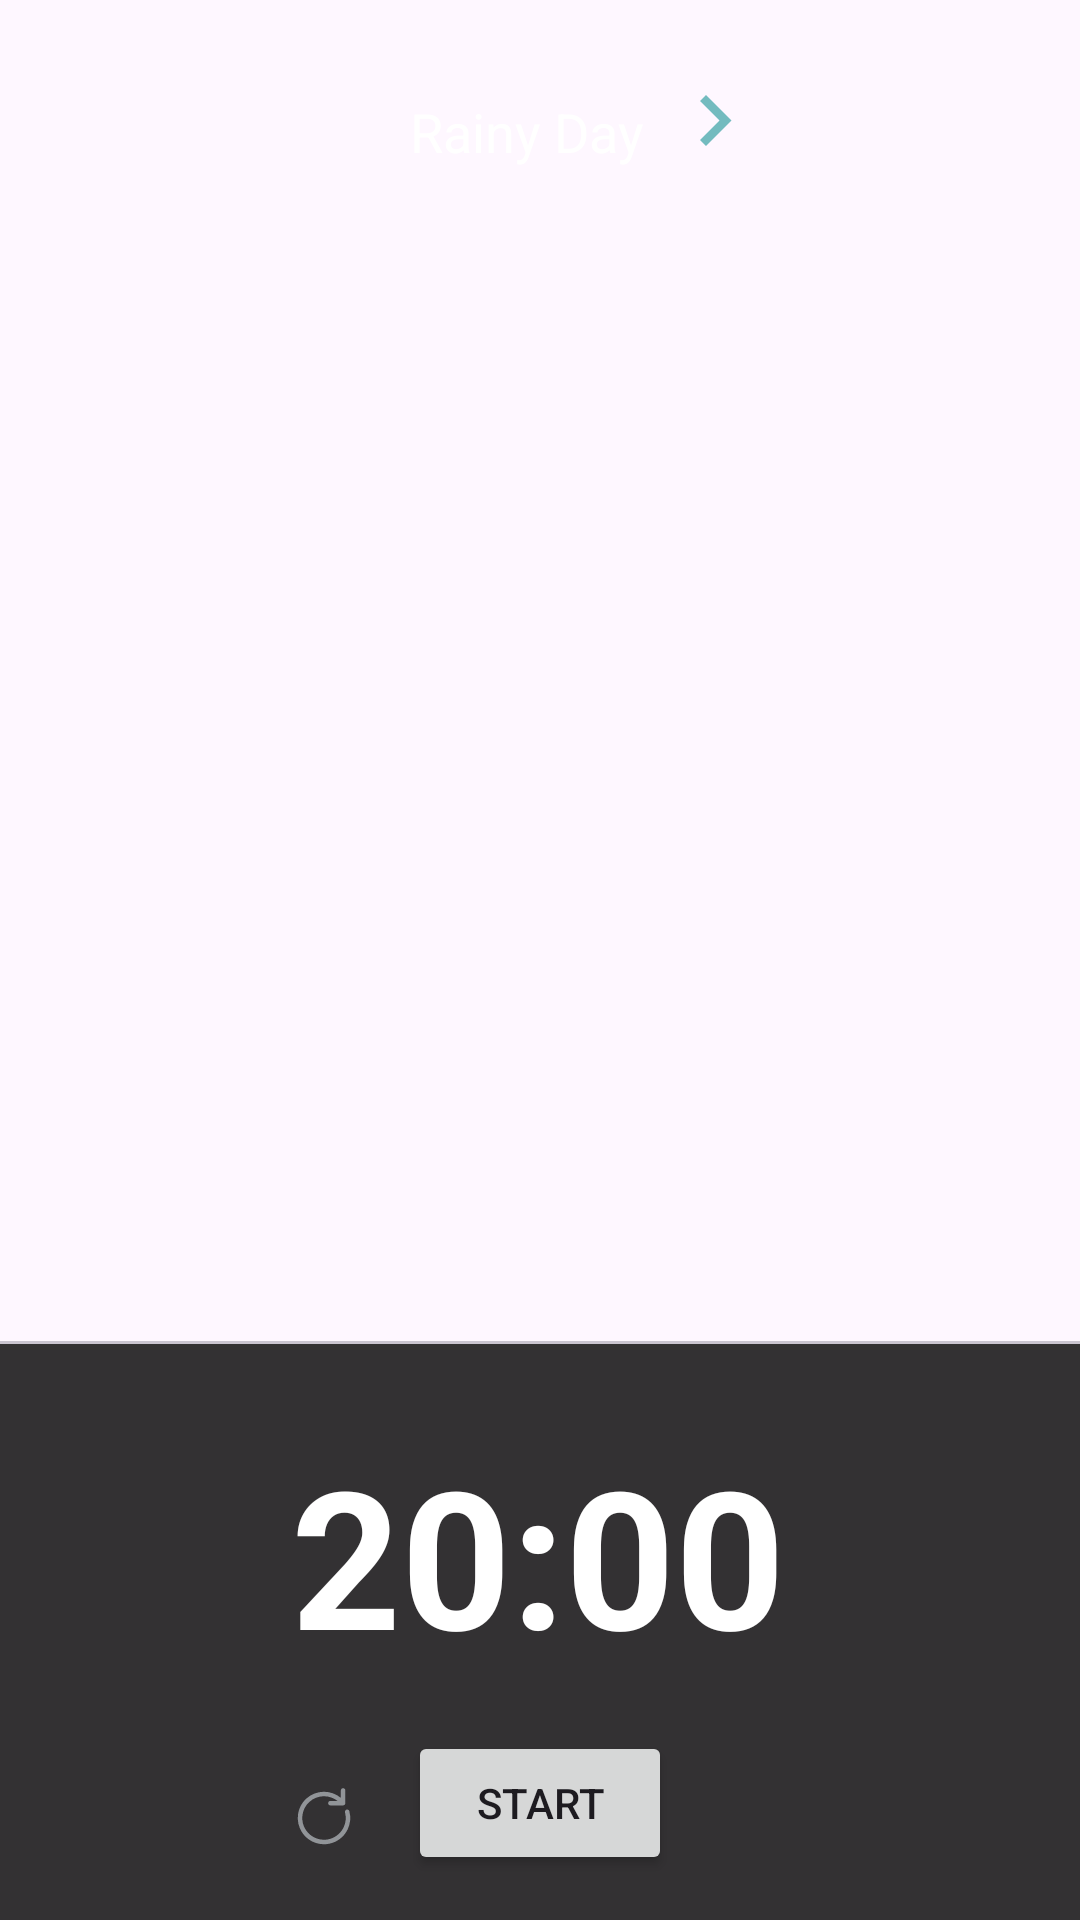

Point at icon controls on the screen. Image size 1080 x 1920, points as point (x, y).
Reset: point (324, 1816)
